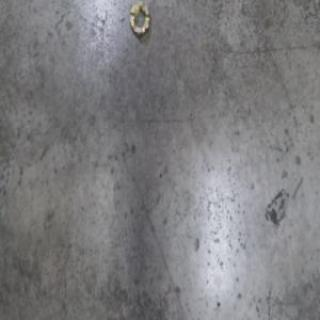Nuttrack_idkeyframe: (128, 0, 149, 38)
